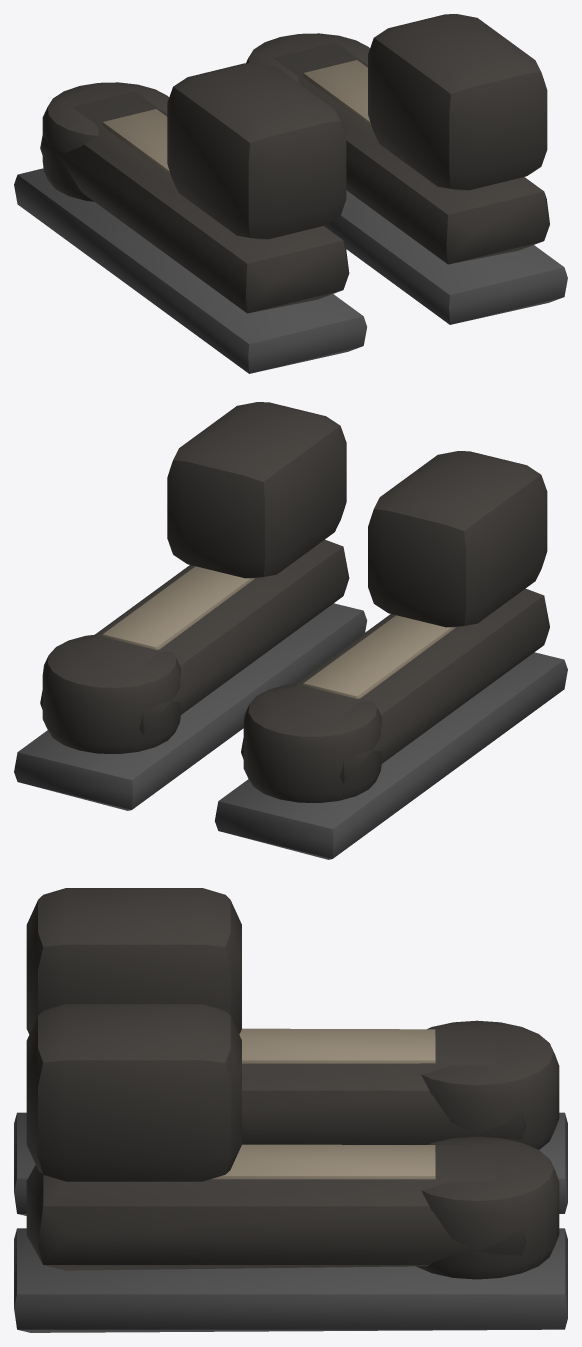
Rendered from SER-EPI-002_lod1.glb.
The picture shows the model from 3 angles, top to bottom: view 1: azimuth 30°, elevation 25°; view 2: azimuth 150°, elevation 25°; view 3: azimuth 270°, elevation 25°; orthographic projection. The views are drawn at different scales.
Visible parts, largest first — view 1: SER-EPI-002_cano-1, SER-EPI-002_cano1, SER-EPI-002_corpo-1, SER-EPI-002_sola-1, SER-EPI-002_corpo1, SER-EPI-002_sola1, SER-EPI-002_bico-1, SER-EPI-002_cadarco-1, SER-EPI-002_cadarco1, SER-EPI-002_bico1; view 2: SER-EPI-002_cano-1, SER-EPI-002_cano1, SER-EPI-002_sola-1, SER-EPI-002_sola1, SER-EPI-002_corpo-1, SER-EPI-002_corpo1, SER-EPI-002_bico-1, SER-EPI-002_bico1, SER-EPI-002_cadarco-1, SER-EPI-002_cadarco1; view 3: SER-EPI-002_corpo1, SER-EPI-002_cano1, SER-EPI-002_sola1, SER-EPI-002_cano-1, SER-EPI-002_corpo-1, SER-EPI-002_bico1, SER-EPI-002_bico-1, SER-EPI-002_cadarco1, SER-EPI-002_cadarco-1, SER-EPI-002_sola-1.
Boxes of the visible parts, left/top/right/bottom form: SER-EPI-002_cano-1: left=167, top=63, right=346, bottom=239; SER-EPI-002_cano1: left=368, top=14, right=547, bottom=190; SER-EPI-002_corpo-1: left=40, top=91, right=349, bottom=313; SER-EPI-002_sola-1: left=14, top=168, right=366, bottom=373; SER-EPI-002_corpo1: left=273, top=42, right=549, bottom=264; SER-EPI-002_sola1: left=324, top=190, right=567, bottom=324; SER-EPI-002_bico-1: left=42, top=82, right=168, bottom=201; SER-EPI-002_cadarco-1: left=102, top=109, right=170, bottom=175; SER-EPI-002_cadarco1: left=303, top=60, right=371, bottom=126; SER-EPI-002_bico1: left=246, top=33, right=369, bottom=82; SER-EPI-002_cano-1: left=368, top=451, right=547, bottom=627; SER-EPI-002_cano1: left=167, top=402, right=346, bottom=578; SER-EPI-002_sola-1: left=215, top=652, right=567, bottom=859; SER-EPI-002_sola1: left=14, top=603, right=367, bottom=810; SER-EPI-002_corpo-1: left=241, top=588, right=549, bottom=784; SER-EPI-002_corpo1: left=40, top=539, right=349, bottom=735; SER-EPI-002_bico-1: left=243, top=683, right=381, bottom=802; SER-EPI-002_bico1: left=42, top=634, right=180, bottom=753; SER-EPI-002_cadarco-1: left=303, top=615, right=455, bottom=698; SER-EPI-002_cadarco1: left=102, top=566, right=254, bottom=649; SER-EPI-002_corpo1: left=26, top=1145, right=526, bottom=1270; SER-EPI-002_cano1: left=26, top=1004, right=241, bottom=1181; SER-EPI-002_sola1: left=14, top=1228, right=567, bottom=1332; SER-EPI-002_cano-1: left=26, top=888, right=241, bottom=1034; SER-EPI-002_corpo-1: left=242, top=1029, right=526, bottom=1144; SER-EPI-002_bico1: left=416, top=1136, right=559, bottom=1279; SER-EPI-002_bico-1: left=421, top=1020, right=559, bottom=1149; SER-EPI-002_cadarco1: left=211, top=1144, right=435, bottom=1179; SER-EPI-002_cadarco-1: left=239, top=1028, right=435, bottom=1063; SER-EPI-002_sola-1: left=14, top=1112, right=567, bottom=1215.
Size of the model in its own units: 0.224 by 0.16 by 0.283.
